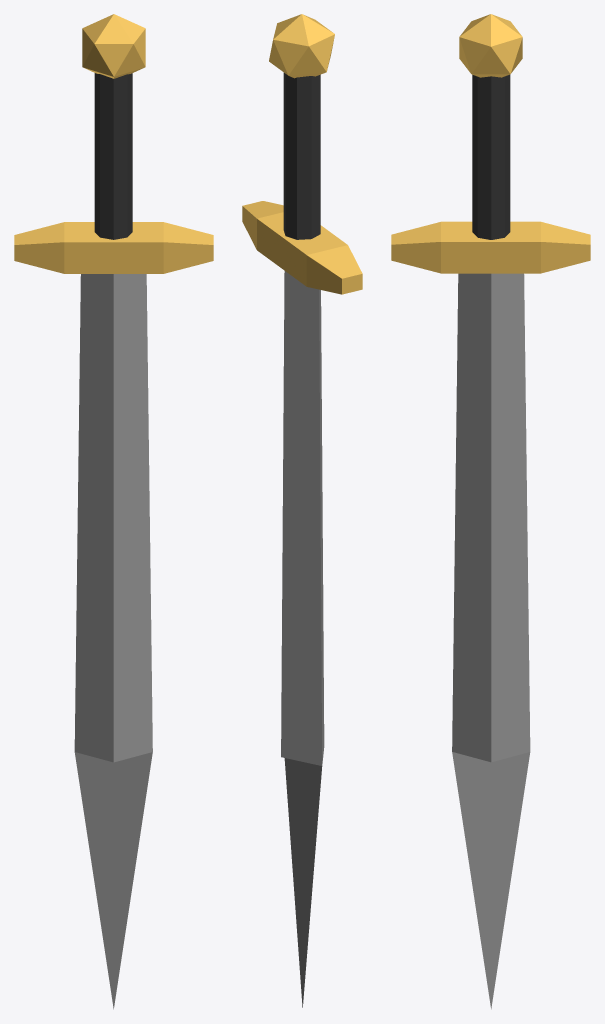
The model's file is sword2.fbx.
The picture shows the model from 3 angles, left to right: view 1: azimuth 90°, elevation 25°; view 2: azimuth 210°, elevation 25°; view 3: azimuth 270°, elevation 25°; orthographic projection.
Parts seen in each view (by area): view 1: sword2; view 2: sword2; view 3: sword2.
Boxes of the visible parts, x1,y1,x2,y2 form: sword2: [14, 14, 213, 1009]; sword2: [242, 14, 362, 1007]; sword2: [391, 14, 590, 1009].
Size of the model in its own units: 8.61 by 142 by 25.74.
